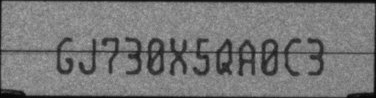0: (146, 36, 165, 75), (260, 37, 279, 76)
3: (124, 36, 144, 76), (305, 36, 324, 75)
5: (193, 37, 211, 77)
7: (101, 36, 119, 75)
A: (237, 37, 257, 76)
C: (284, 37, 301, 76)
G: (55, 35, 73, 74)
J: (78, 37, 96, 75)
Q: (214, 38, 232, 74)
X: (169, 36, 188, 75)
